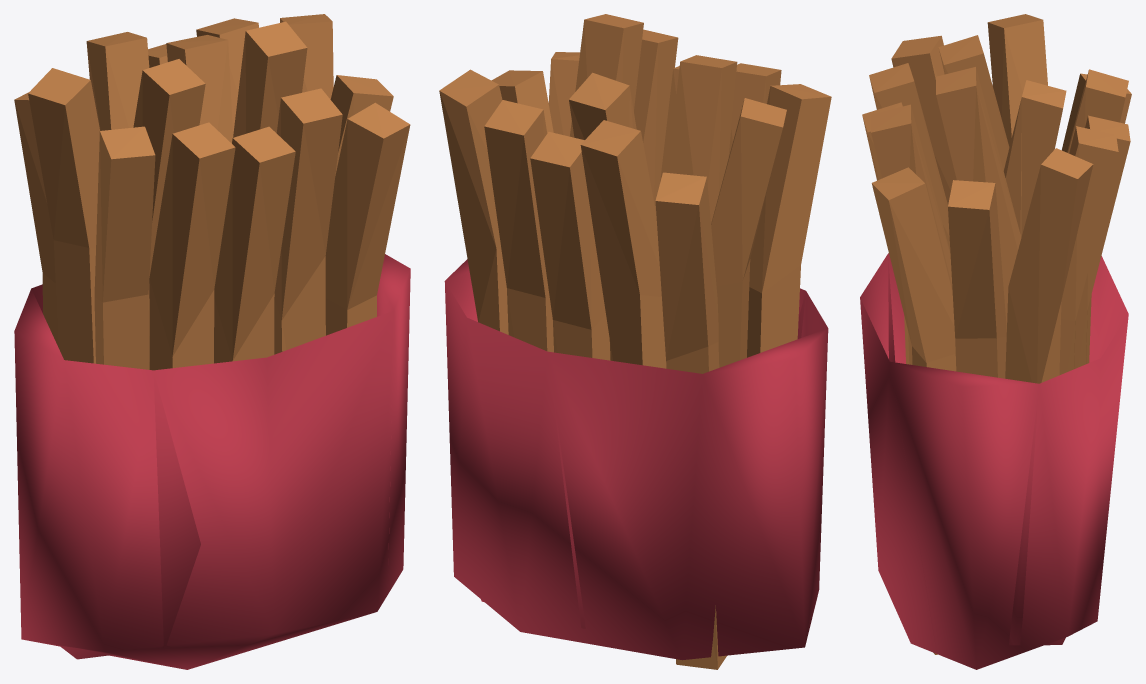
Rendered from BagFries.fbx.
3 renders of one model, left to right at view 1: azimuth 30°, elevation 25°; view 2: azimuth 150°, elevation 25°; view 3: azimuth 270°, elevation 25°, orthographic. The views are drawn at different scales.
Visible parts, largest first — view 1: Cube, Cube.002, Cube.010, Cube.005, Cube.001, Cube.003, Cube.004, Cube.007, Cube.009, Cube.014, Cube.006, Cube.013 (+3 smaller); view 2: Cube, Cube.014, Cube.001, Cube.015, Cube.013, Cube.012, Cube.010, Cube.011, Cube.009, Cube.004, Cube.007, Cube.006 (+4 smaller); view 3: Cube, Cube.011, Cube.003, Cube.008, Cube.007, Cube.012, Cube.006, Cube.010, Cube.004, Cube.001, Cube.015, Cube.002 (+4 smaller).
Boxes of the visible parts, x1=… form: Cube: x1=14, y1=254, x2=410, y2=669; Cube.002: x1=149, y1=122, x2=235, y2=370; Cube.010: x1=28, y1=68, x2=99, y2=363; Cube.005: x1=214, y1=126, x2=295, y2=363; Cube.001: x1=94, y1=126, x2=155, y2=369; Cube.003: x1=325, y1=102, x2=410, y2=335; Cube.004: x1=274, y1=88, x2=342, y2=354; Cube.007: x1=233, y1=21, x2=307, y2=137; Cube.009: x1=133, y1=59, x2=205, y2=361; Cube.014: x1=86, y1=32, x2=149, y2=130; Cube.006: x1=166, y1=35, x2=232, y2=143; Cube.013: x1=14, y1=92, x2=58, y2=346; Cube: x1=444, y1=259, x2=828, y2=660; Cube.014: x1=580, y1=120, x2=666, y2=368; Cube.001: x1=747, y1=84, x2=831, y2=357; Cube.015: x1=530, y1=132, x2=610, y2=360; Cube.013: x1=655, y1=172, x2=726, y2=669; Cube.012: x1=484, y1=100, x2=553, y2=352; Cube.010: x1=711, y1=98, x2=786, y2=367; Cube.011: x1=439, y1=69, x2=508, y2=334; Cube.009: x1=667, y1=55, x2=737, y2=223; Cube.004: x1=634, y1=29, x2=678, y2=213; Cube.007: x1=570, y1=14, x2=643, y2=137; Cube.006: x1=569, y1=72, x2=636, y2=139; Cube: x1=860, y1=253, x2=1128, y2=669; Cube.011: x1=1005, y1=148, x2=1093, y2=383; Cube.003: x1=871, y1=167, x2=956, y2=654; Cube.008: x1=948, y1=180, x2=1006, y2=378; Cube.007: x1=936, y1=67, x2=1021, y2=328; Cube.012: x1=1059, y1=126, x2=1118, y2=375; Cube.006: x1=1003, y1=80, x2=1066, y2=237; Cube.010: x1=987, y1=14, x2=1047, y2=146; Cube.004: x1=871, y1=104, x2=952, y2=364; Cube.001: x1=891, y1=35, x2=956, y2=204; Cube.015: x1=1074, y1=115, x2=1130, y2=368; Cube.002: x1=869, y1=63, x2=950, y2=251.
Bounding box in the file's own units: 496 × 778 × 349.
